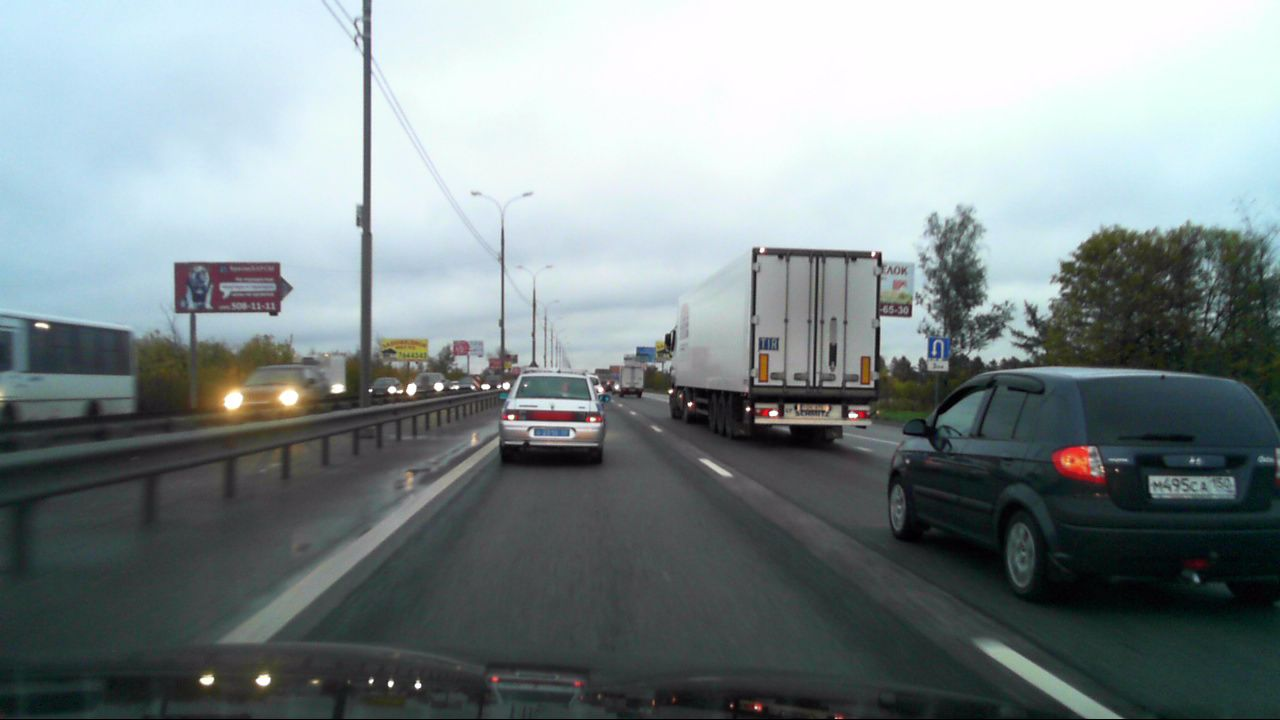U-turn: (928, 337, 949, 358)
